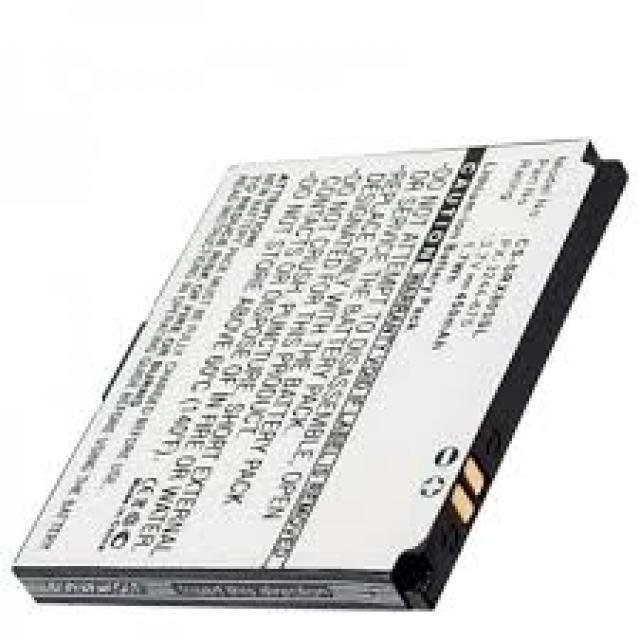battery: (21, 146, 629, 616)
